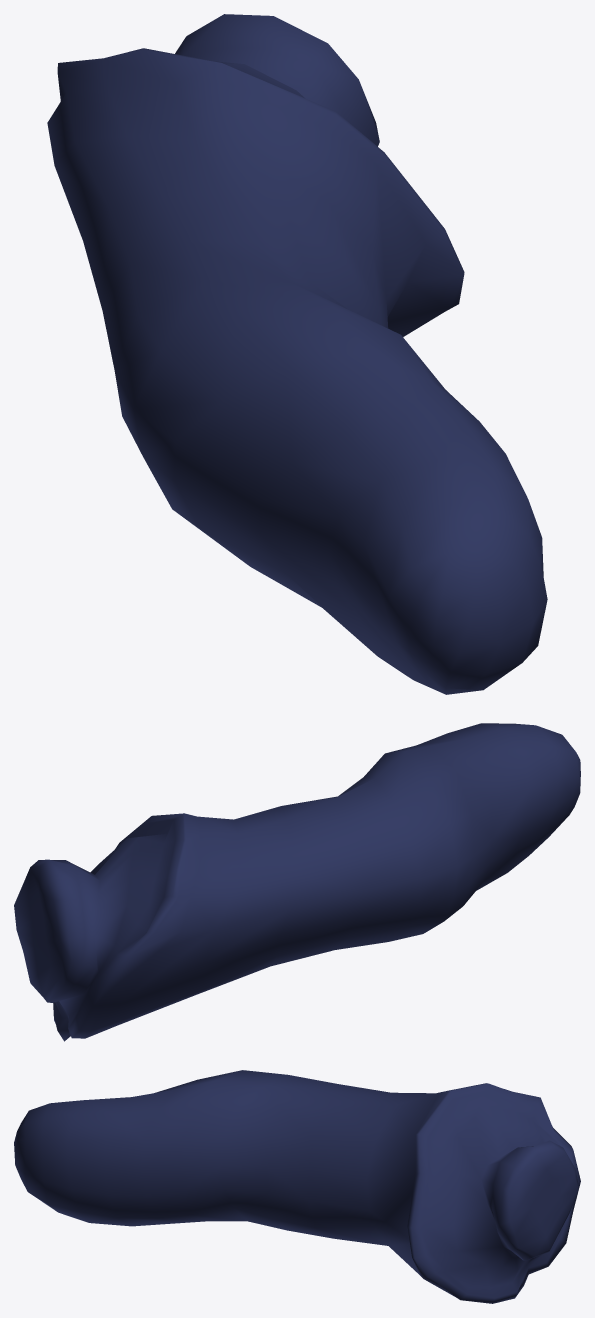
File: Thumb.FBX
The picture shows the model from 3 angles, top to bottom: view 1: azimuth 30°, elevation 25°; view 2: azimuth 150°, elevation 25°; view 3: azimuth 270°, elevation 25°; orthographic projection. The views are drawn at different scales.
Visible parts, largest first — view 1: Thumb; view 2: Thumb; view 3: Thumb.
Part boxes in pixels (x1=…): Thumb: x1=47, y1=14, x2=547, y2=694; Thumb: x1=14, y1=723, x2=580, y2=1041; Thumb: x1=14, y1=1070, x2=580, y2=1303.
Bounding box in the file's own units: 4.07 × 2.85 × 8.31.
